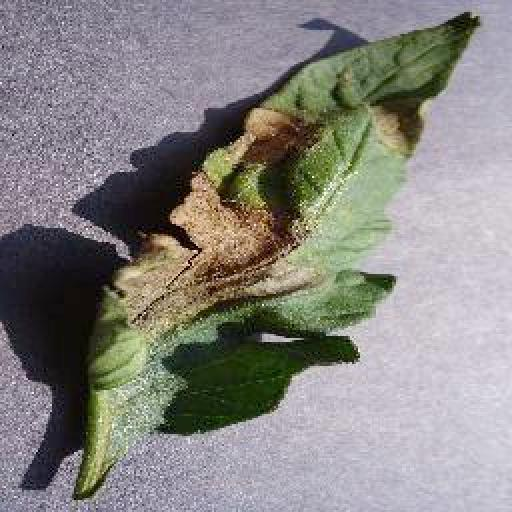disease_tomato: (87, 9, 481, 443)
